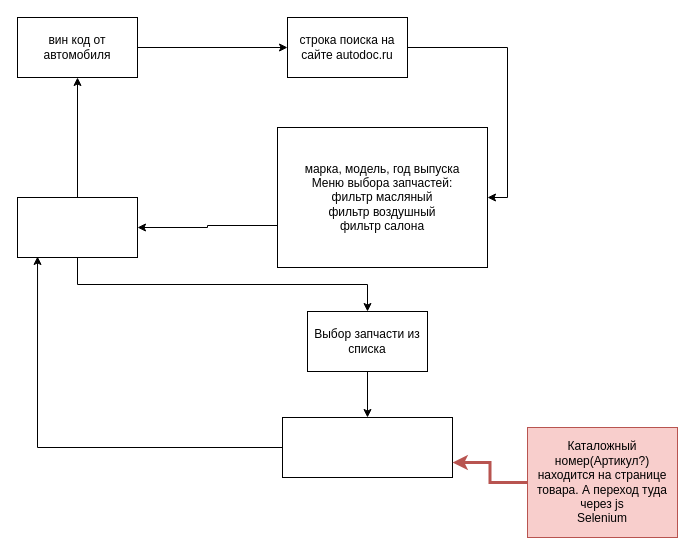
This 695x555 diagram has some shape labels left out. Each missing label, with the box of its shape:
Поиск запчасти на сайте, получение каталожного номера: (282, 416, 452, 478)
Пользователь: (16, 196, 138, 258)
